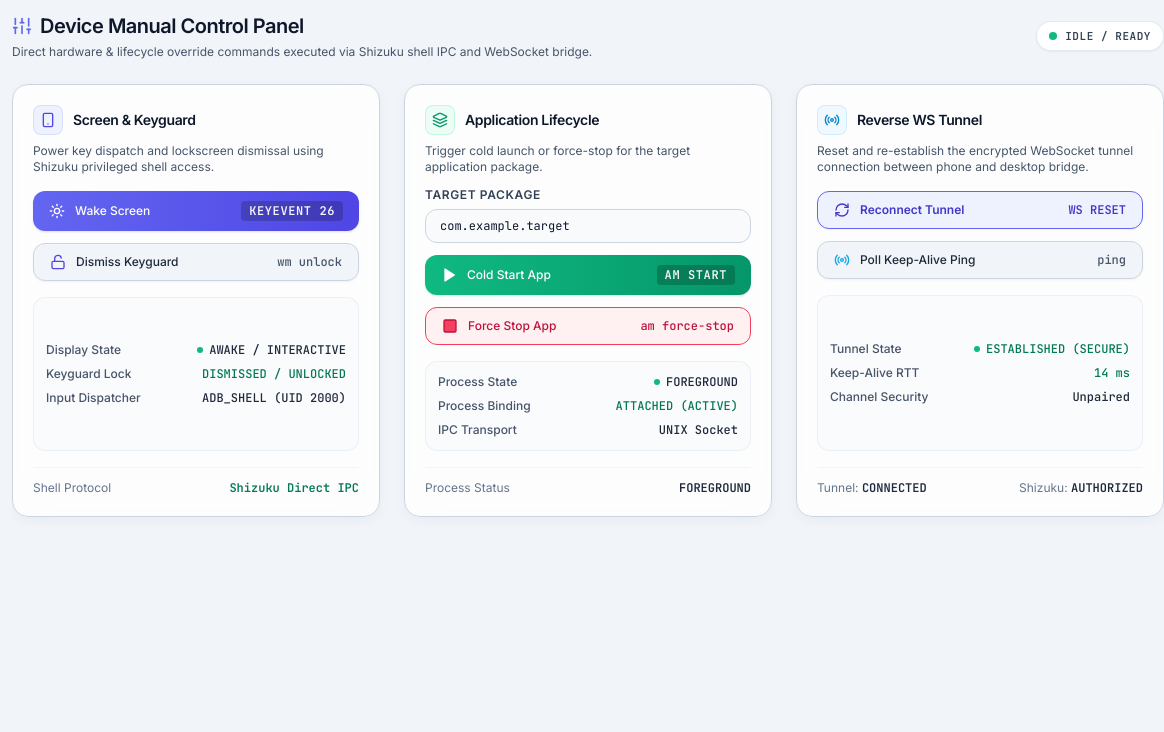
Test: ControlPanel Component › displays error toast when action fails
Click the button with test id "btn-wake-screen". click: (113, 210)
box: x1=33 y1=191 x2=359 y2=231
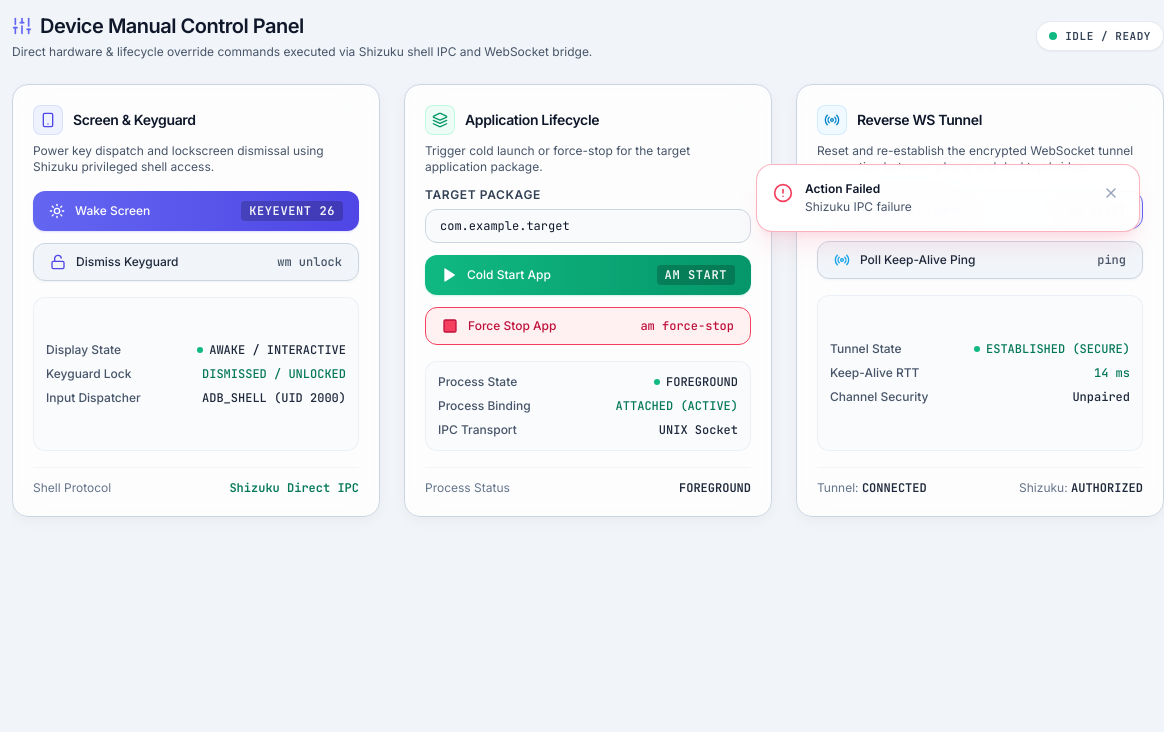
Check: the element with test id "toast-notification" is shown, box x1=756 y1=164 x2=1140 y2=232
Check: the text with test id "toast-message" reads "Shizuku IPC failure", box x1=805 y1=199 x2=912 y2=214
